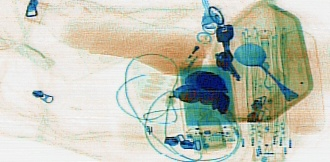lighter: (176, 20, 218, 77)
